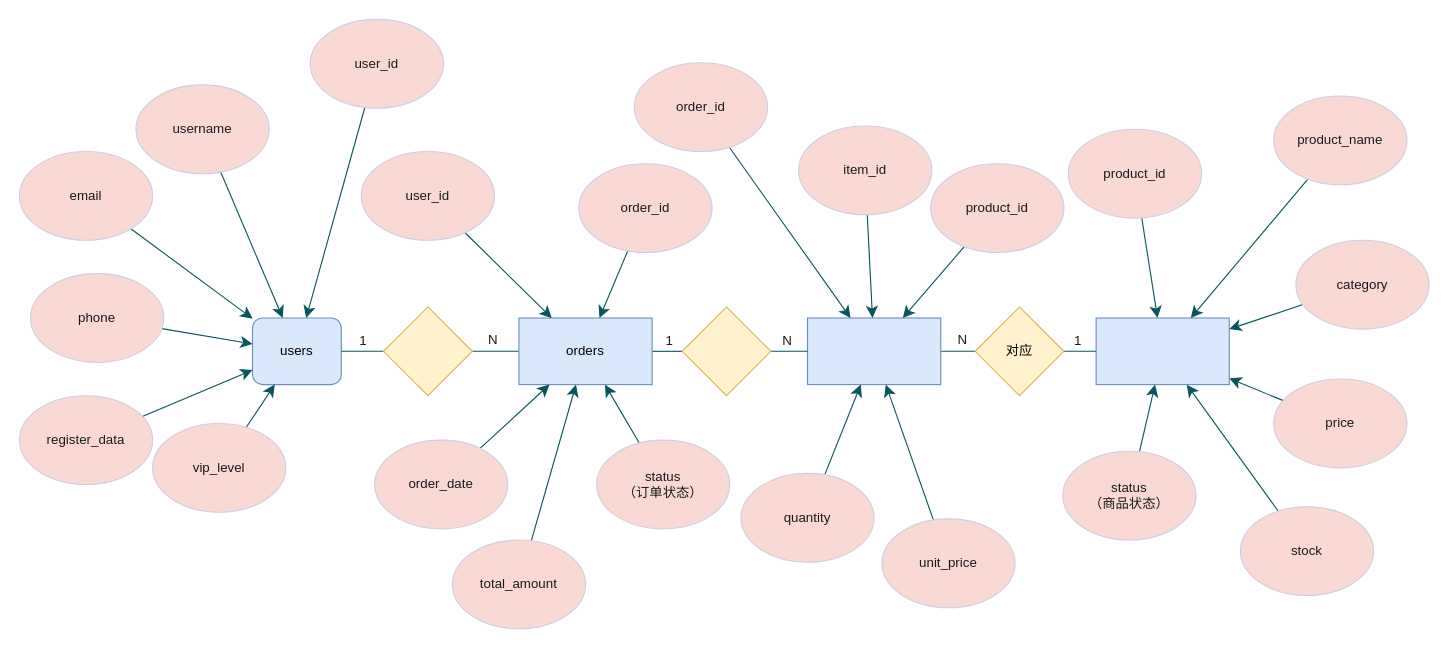
The diagram is 1449 pixels wide and 648 high, and some of its shapes have lost their labels. Here are the shapes that lost their labels. From the top down, the centre of each, then its label:
[427,351]: 下单
[726,351]: 包含
[873,351]: order_items
[1162,351]: products
